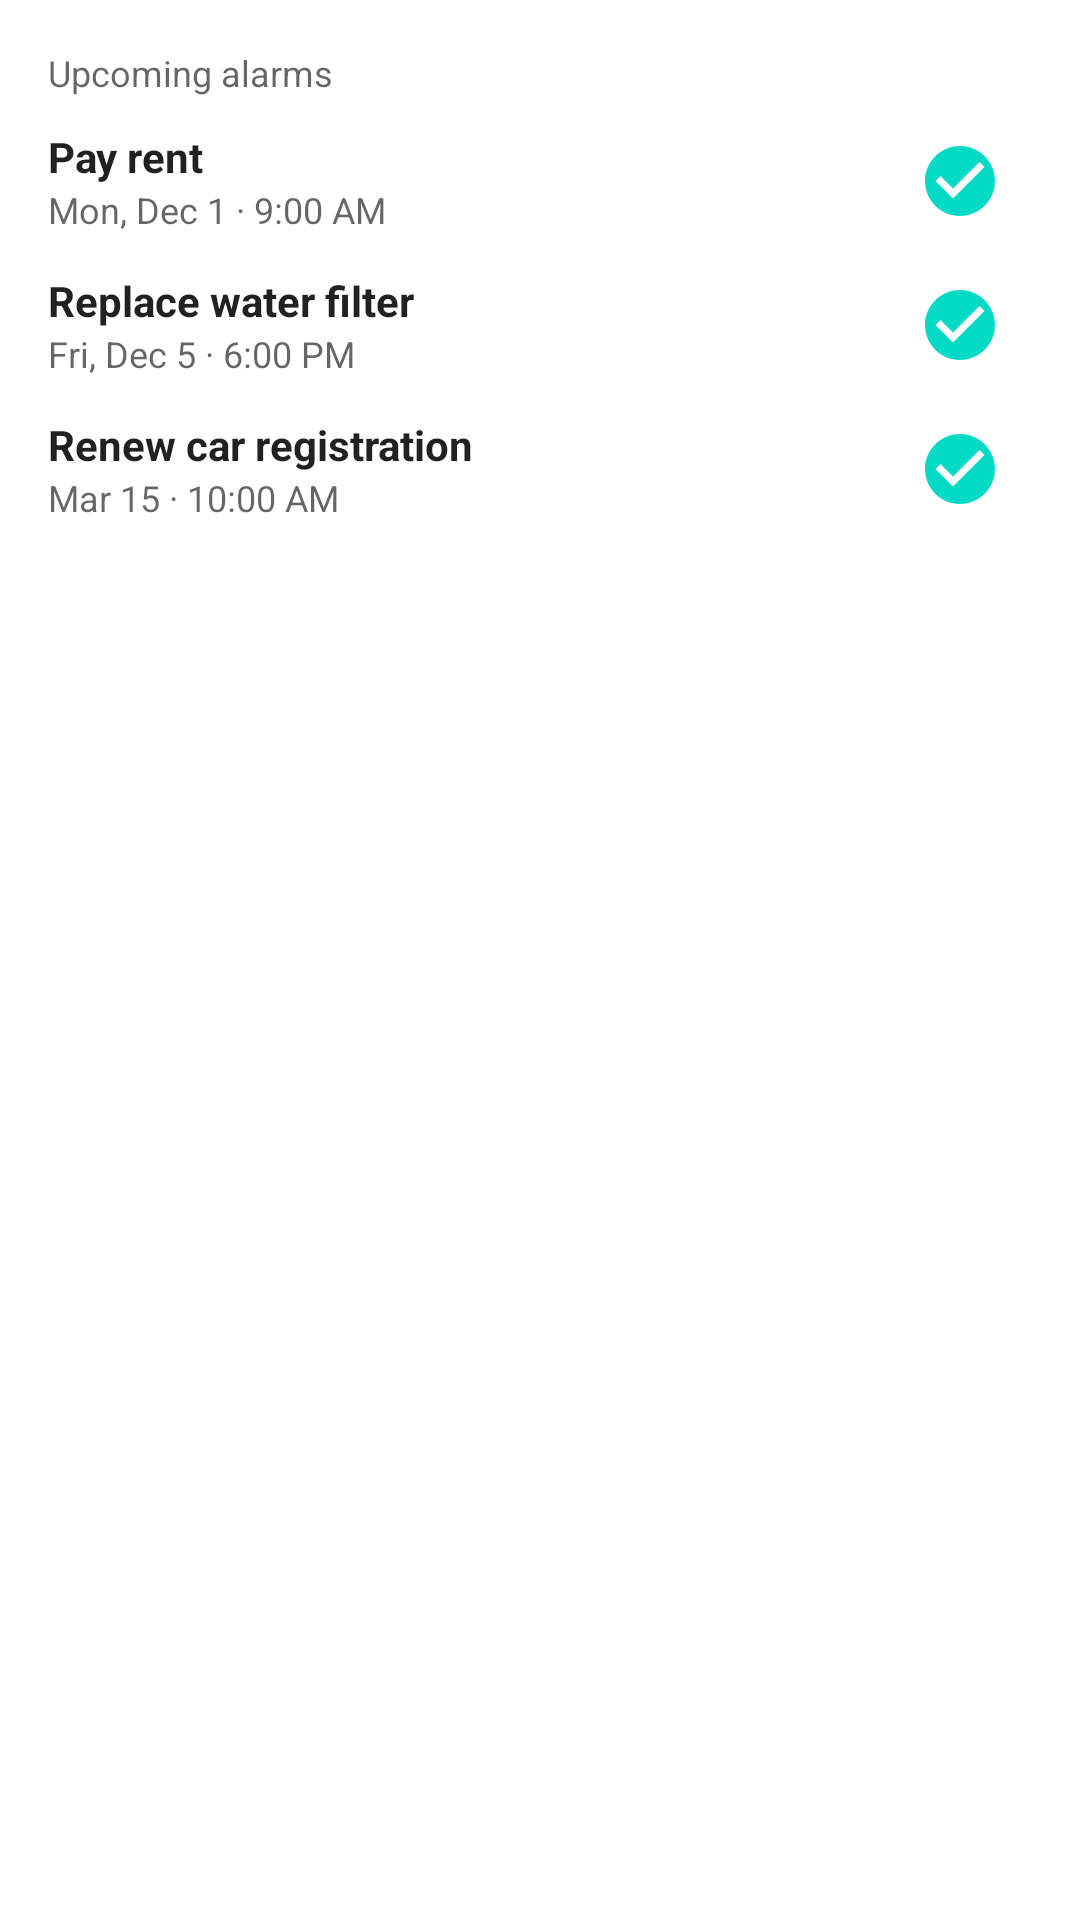

Named icons in this screenshot (1080px x 1920px) and their bounding boxes, (x1, y1, x2, y2):
widget check: (925, 146, 995, 216), (925, 290, 995, 360), (925, 434, 995, 504)
